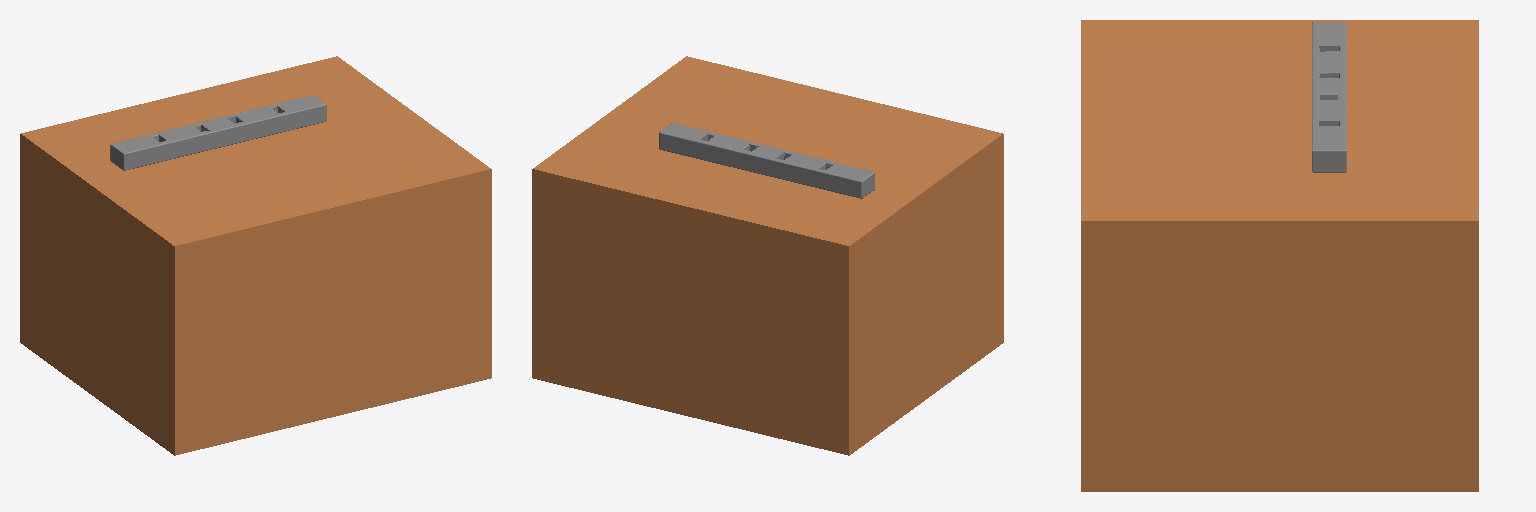
The robot description file, URDF, robot "table_beam_2x_2_scene_0051":
<?xml version="1.0"?>
<robot name="table_beam_2x_2_scene_0051">
  <link name="box">
    <visual>
      <material name="wood"><color rgba="0.82 0.56 0.35 1.0"/></material>
      <origin xyz="0 0 0"/>
      <geometry><box size="0.475 0.4 0.3"/></geometry>
    </visual>
    <collision>
      <origin xyz="0 0 0"/>
      <geometry><box size="0.475 0.4 0.3"/></geometry>
    </collision>
    <inertial>
      <mass value="500"/>
      <friction value="1.0"/>
      <inertia ixx="1000.0" ixy="0.0" ixz="0.0" iyy="1000.0" iyz="0.0" izz="1000.0"/>
    </inertial>
  </link>
  <link name="part_6_hull_0">
    <visual>
      <origin xyz="0 0 0" rpy="0 0 0"/>
      <geometry><mesh filename="../../6/coacd/decomp_0.obj" scale="1 1 1"/></geometry>
      <material name="placed_0"><color rgba="0.6 0.6 0.6 1.0"/></material>
    </visual>
    <collision>
      <origin xyz="0 0 0" rpy="0 0 0"/>
      <geometry><mesh filename="../../6/coacd/decomp_0.obj" scale="1 1 1"/></geometry>
    </collision>
  </link>
  <joint name="part_6_hull_0_joint" type="fixed">
    <parent link="box"/>
    <child link="part_6_hull_0"/>
    <origin xyz="-0.027505 0.049567 0.162666" rpy="0.000000 0.000000 0.000000"/>
  </joint>
  <link name="part_6_hull_1">
    <visual>
      <origin xyz="0 0 0" rpy="0 0 0"/>
      <geometry><mesh filename="../../6/coacd/decomp_1.obj" scale="1 1 1"/></geometry>
      <material name="placed_1"><color rgba="0.6 0.6 0.6 1.0"/></material>
    </visual>
    <collision>
      <origin xyz="0 0 0" rpy="0 0 0"/>
      <geometry><mesh filename="../../6/coacd/decomp_1.obj" scale="1 1 1"/></geometry>
    </collision>
  </link>
  <joint name="part_6_hull_1_joint" type="fixed">
    <parent link="box"/>
    <child link="part_6_hull_1"/>
    <origin xyz="-0.027505 0.049567 0.162666" rpy="0.000000 0.000000 0.000000"/>
  </joint>
  <link name="part_6_hull_2">
    <visual>
      <origin xyz="0 0 0" rpy="0 0 0"/>
      <geometry><mesh filename="../../6/coacd/decomp_10.obj" scale="1 1 1"/></geometry>
      <material name="placed_2"><color rgba="0.6 0.6 0.6 1.0"/></material>
    </visual>
    <collision>
      <origin xyz="0 0 0" rpy="0 0 0"/>
      <geometry><mesh filename="../../6/coacd/decomp_10.obj" scale="1 1 1"/></geometry>
    </collision>
  </link>
  <joint name="part_6_hull_2_joint" type="fixed">
    <parent link="box"/>
    <child link="part_6_hull_2"/>
    <origin xyz="-0.027505 0.049567 0.162666" rpy="0.000000 0.000000 0.000000"/>
  </joint>
  <link name="part_6_hull_3">
    <visual>
      <origin xyz="0 0 0" rpy="0 0 0"/>
      <geometry><mesh filename="../../6/coacd/decomp_11.obj" scale="1 1 1"/></geometry>
      <material name="placed_3"><color rgba="0.6 0.6 0.6 1.0"/></material>
    </visual>
    <collision>
      <origin xyz="0 0 0" rpy="0 0 0"/>
      <geometry><mesh filename="../../6/coacd/decomp_11.obj" scale="1 1 1"/></geometry>
    </collision>
  </link>
  <joint name="part_6_hull_3_joint" type="fixed">
    <parent link="box"/>
    <child link="part_6_hull_3"/>
    <origin xyz="-0.027505 0.049567 0.162666" rpy="0.000000 0.000000 0.000000"/>
  </joint>
  <link name="part_6_hull_4">
    <visual>
      <origin xyz="0 0 0" rpy="0 0 0"/>
      <geometry><mesh filename="../../6/coacd/decomp_12.obj" scale="1 1 1"/></geometry>
      <material name="placed_4"><color rgba="0.6 0.6 0.6 1.0"/></material>
    </visual>
    <collision>
      <origin xyz="0 0 0" rpy="0 0 0"/>
      <geometry><mesh filename="../../6/coacd/decomp_12.obj" scale="1 1 1"/></geometry>
    </collision>
  </link>
  <joint name="part_6_hull_4_joint" type="fixed">
    <parent link="box"/>
    <child link="part_6_hull_4"/>
    <origin xyz="-0.027505 0.049567 0.162666" rpy="0.000000 0.000000 0.000000"/>
  </joint>
  <link name="part_6_hull_5">
    <visual>
      <origin xyz="0 0 0" rpy="0 0 0"/>
      <geometry><mesh filename="../../6/coacd/decomp_13.obj" scale="1 1 1"/></geometry>
      <material name="placed_5"><color rgba="0.6 0.6 0.6 1.0"/></material>
    </visual>
    <collision>
      <origin xyz="0 0 0" rpy="0 0 0"/>
      <geometry><mesh filename="../../6/coacd/decomp_13.obj" scale="1 1 1"/></geometry>
    </collision>
  </link>
  <joint name="part_6_hull_5_joint" type="fixed">
    <parent link="box"/>
    <child link="part_6_hull_5"/>
    <origin xyz="-0.027505 0.049567 0.162666" rpy="0.000000 0.000000 0.000000"/>
  </joint>
  <link name="part_6_hull_6">
    <visual>
      <origin xyz="0 0 0" rpy="0 0 0"/>
      <geometry><mesh filename="../../6/coacd/decomp_2.obj" scale="1 1 1"/></geometry>
      <material name="placed_6"><color rgba="0.6 0.6 0.6 1.0"/></material>
    </visual>
    <collision>
      <origin xyz="0 0 0" rpy="0 0 0"/>
      <geometry><mesh filename="../../6/coacd/decomp_2.obj" scale="1 1 1"/></geometry>
    </collision>
  </link>
  <joint name="part_6_hull_6_joint" type="fixed">
    <parent link="box"/>
    <child link="part_6_hull_6"/>
    <origin xyz="-0.027505 0.049567 0.162666" rpy="0.000000 0.000000 0.000000"/>
  </joint>
  <link name="part_6_hull_7">
    <visual>
      <origin xyz="0 0 0" rpy="0 0 0"/>
      <geometry><mesh filename="../../6/coacd/decomp_3.obj" scale="1 1 1"/></geometry>
      <material name="placed_7"><color rgba="0.6 0.6 0.6 1.0"/></material>
    </visual>
    <collision>
      <origin xyz="0 0 0" rpy="0 0 0"/>
      <geometry><mesh filename="../../6/coacd/decomp_3.obj" scale="1 1 1"/></geometry>
    </collision>
  </link>
  <joint name="part_6_hull_7_joint" type="fixed">
    <parent link="box"/>
    <child link="part_6_hull_7"/>
    <origin xyz="-0.027505 0.049567 0.162666" rpy="0.000000 0.000000 0.000000"/>
  </joint>
  <link name="part_6_hull_8">
    <visual>
      <origin xyz="0 0 0" rpy="0 0 0"/>
      <geometry><mesh filename="../../6/coacd/decomp_4.obj" scale="1 1 1"/></geometry>
      <material name="placed_8"><color rgba="0.6 0.6 0.6 1.0"/></material>
    </visual>
    <collision>
      <origin xyz="0 0 0" rpy="0 0 0"/>
      <geometry><mesh filename="../../6/coacd/decomp_4.obj" scale="1 1 1"/></geometry>
    </collision>
  </link>
  <joint name="part_6_hull_8_joint" type="fixed">
    <parent link="box"/>
    <child link="part_6_hull_8"/>
    <origin xyz="-0.027505 0.049567 0.162666" rpy="0.000000 0.000000 0.000000"/>
  </joint>
  <link name="part_6_hull_9">
    <visual>
      <origin xyz="0 0 0" rpy="0 0 0"/>
      <geometry><mesh filename="../../6/coacd/decomp_5.obj" scale="1 1 1"/></geometry>
      <material name="placed_9"><color rgba="0.6 0.6 0.6 1.0"/></material>
    </visual>
    <collision>
      <origin xyz="0 0 0" rpy="0 0 0"/>
      <geometry><mesh filename="../../6/coacd/decomp_5.obj" scale="1 1 1"/></geometry>
    </collision>
  </link>
  <joint name="part_6_hull_9_joint" type="fixed">
    <parent link="box"/>
    <child link="part_6_hull_9"/>
    <origin xyz="-0.027505 0.049567 0.162666" rpy="0.000000 0.000000 0.000000"/>
  </joint>
  <link name="part_6_hull_10">
    <visual>
      <origin xyz="0 0 0" rpy="0 0 0"/>
      <geometry><mesh filename="../../6/coacd/decomp_6.obj" scale="1 1 1"/></geometry>
      <material name="placed_10"><color rgba="0.6 0.6 0.6 1.0"/></material>
    </visual>
    <collision>
      <origin xyz="0 0 0" rpy="0 0 0"/>
      <geometry><mesh filename="../../6/coacd/decomp_6.obj" scale="1 1 1"/></geometry>
    </collision>
  </link>
  <joint name="part_6_hull_10_joint" type="fixed">
    <parent link="box"/>
    <child link="part_6_hull_10"/>
    <origin xyz="-0.027505 0.049567 0.162666" rpy="0.000000 0.000000 0.000000"/>
  </joint>
  <link name="part_6_hull_11">
    <visual>
      <origin xyz="0 0 0" rpy="0 0 0"/>
      <geometry><mesh filename="../../6/coacd/decomp_7.obj" scale="1 1 1"/></geometry>
      <material name="placed_11"><color rgba="0.6 0.6 0.6 1.0"/></material>
    </visual>
    <collision>
      <origin xyz="0 0 0" rpy="0 0 0"/>
      <geometry><mesh filename="../../6/coacd/decomp_7.obj" scale="1 1 1"/></geometry>
    </collision>
  </link>
  <joint name="part_6_hull_11_joint" type="fixed">
    <parent link="box"/>
    <child link="part_6_hull_11"/>
    <origin xyz="-0.027505 0.049567 0.162666" rpy="0.000000 0.000000 0.000000"/>
  </joint>
  <link name="part_6_hull_12">
    <visual>
      <origin xyz="0 0 0" rpy="0 0 0"/>
      <geometry><mesh filename="../../6/coacd/decomp_8.obj" scale="1 1 1"/></geometry>
      <material name="placed_12"><color rgba="0.6 0.6 0.6 1.0"/></material>
    </visual>
    <collision>
      <origin xyz="0 0 0" rpy="0 0 0"/>
      <geometry><mesh filename="../../6/coacd/decomp_8.obj" scale="1 1 1"/></geometry>
    </collision>
  </link>
  <joint name="part_6_hull_12_joint" type="fixed">
    <parent link="box"/>
    <child link="part_6_hull_12"/>
    <origin xyz="-0.027505 0.049567 0.162666" rpy="0.000000 0.000000 0.000000"/>
  </joint>
  <link name="part_6_hull_13">
    <visual>
      <origin xyz="0 0 0" rpy="0 0 0"/>
      <geometry><mesh filename="../../6/coacd/decomp_9.obj" scale="1 1 1"/></geometry>
      <material name="placed_13"><color rgba="0.6 0.6 0.6 1.0"/></material>
    </visual>
    <collision>
      <origin xyz="0 0 0" rpy="0 0 0"/>
      <geometry><mesh filename="../../6/coacd/decomp_9.obj" scale="1 1 1"/></geometry>
    </collision>
  </link>
  <joint name="part_6_hull_13_joint" type="fixed">
    <parent link="box"/>
    <child link="part_6_hull_13"/>
    <origin xyz="-0.027505 0.049567 0.162666" rpy="0.000000 0.000000 0.000000"/>
  </joint>
</robot>

--- Render facts (derived) ---
Views: 3 orthographic renders of the robot side by side, from view 1: azimuth 30°, elevation 25°; view 2: azimuth 150°, elevation 25°; view 3: azimuth 270°, elevation 25°.
Robot: table_beam_2x_2_scene_0051 — 15 links, 14 joints (14 fixed); root link box; default pose: every joint at zero.
Links seen in each view (by area): view 1: box, part_6_hull_1, part_6_hull_0, part_6_hull_9, part_6_hull_5, part_6_hull_3; view 2: box, part_6_hull_1, part_6_hull_0, part_6_hull_2, part_6_hull_12, part_6_hull_5; view 3: box, part_6_hull_0, part_6_hull_1, part_6_hull_5, part_6_hull_2.
Link boxes in pixels (x1,y1,x2,y2): box: [20, 56, 491, 455]; part_6_hull_1: [110, 135, 162, 170]; part_6_hull_0: [276, 95, 326, 130]; part_6_hull_9: [160, 131, 211, 161]; part_6_hull_5: [241, 106, 280, 138]; part_6_hull_3: [213, 120, 253, 148]; box: [532, 56, 1003, 455]; part_6_hull_1: [823, 163, 874, 198]; part_6_hull_0: [659, 123, 709, 158]; part_6_hull_2: [781, 155, 825, 187]; part_6_hull_12: [731, 148, 771, 176]; part_6_hull_5: [705, 134, 743, 166]; box: [1081, 20, 1478, 491]; part_6_hull_0: [1312, 126, 1346, 172]; part_6_hull_1: [1312, 22, 1346, 51]; part_6_hull_5: [1312, 104, 1346, 125]; part_6_hull_2: [1320, 51, 1346, 77].
Size in the robot's own frame: 0.475 by 0.4 by 0.3254 metres.
14 mesh visuals loaded from 14 distinct referenced files (14 OBJ).
